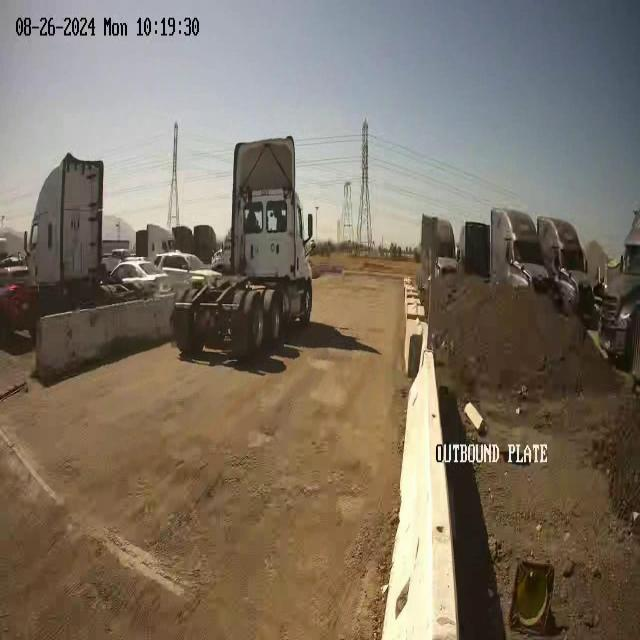BOBTAIL: (171, 134, 315, 360)
